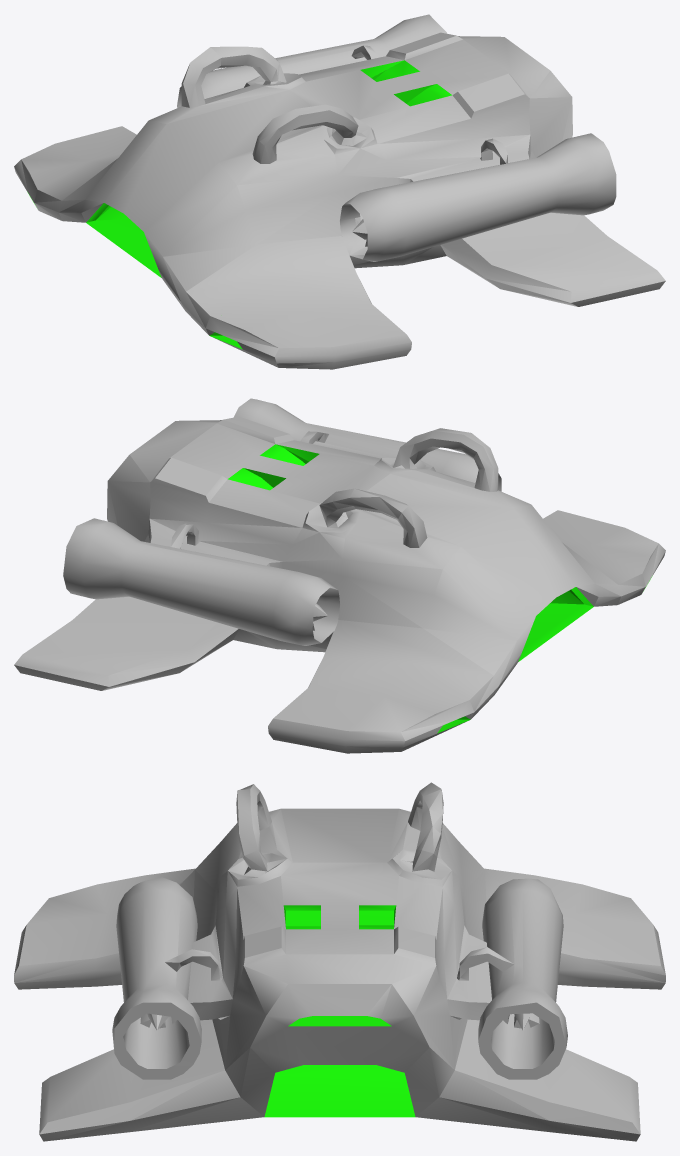
The model's file is SeaMonster.fbx.
3 views of the same model, one above another, from view 1: azimuth 30°, elevation 25°; view 2: azimuth 150°, elevation 25°; view 3: azimuth 270°, elevation 25° (orthographic). The views are drawn at different scales.
Visible parts, largest first — view 1: Sea_Monster; view 2: Sea_Monster; view 3: Sea_Monster.
Part boxes in pixels (box(x1,y1,x2,y2)): Sea_Monster: box(14, 14, 665, 369); Sea_Monster: box(14, 398, 665, 753); Sea_Monster: box(14, 782, 665, 1141).
Size of the model in its own units: 184 by 75.4 by 220.
